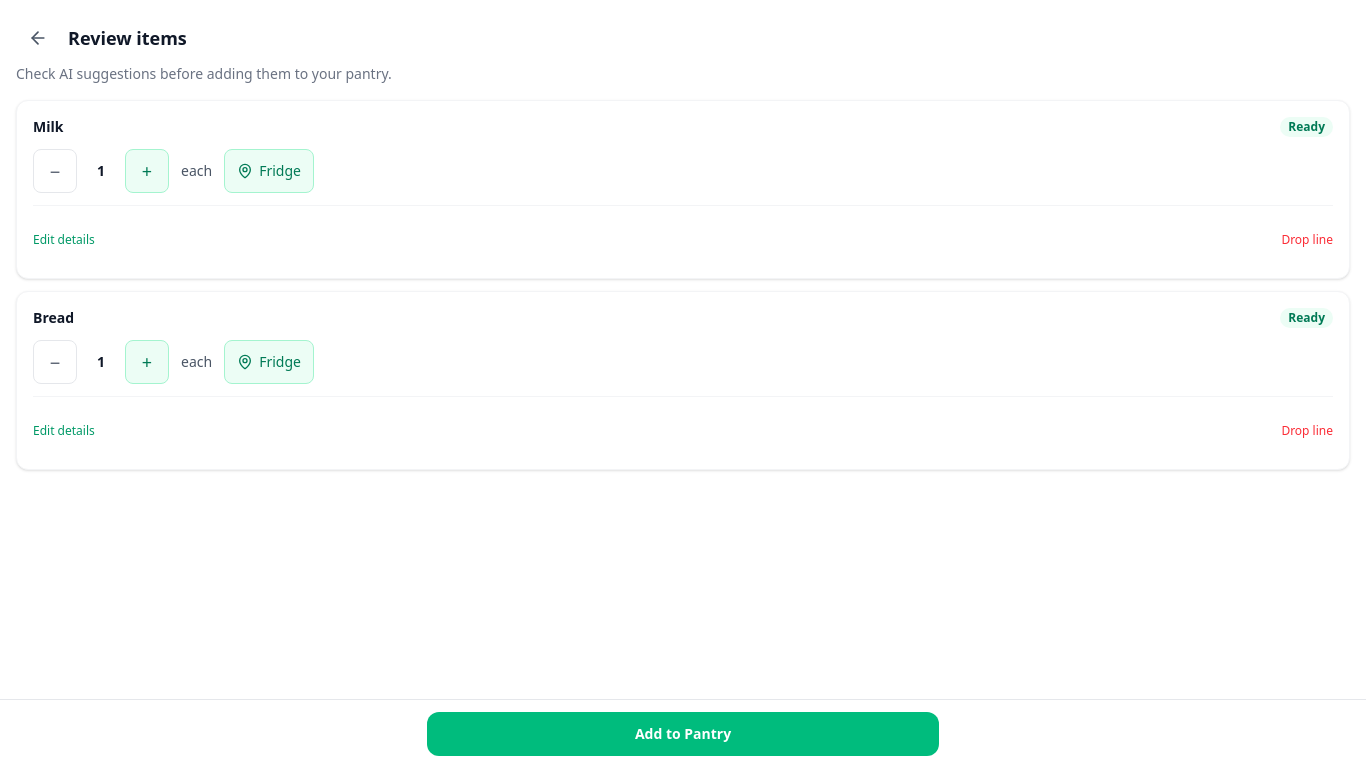
Test: BatchReviewScreen › confirm flow › keeps the result mounted and ConfirmBar hidden while retry is in flight
Click the button "Add to Pantry".
click(683, 734)  # box [427,712,939,756]
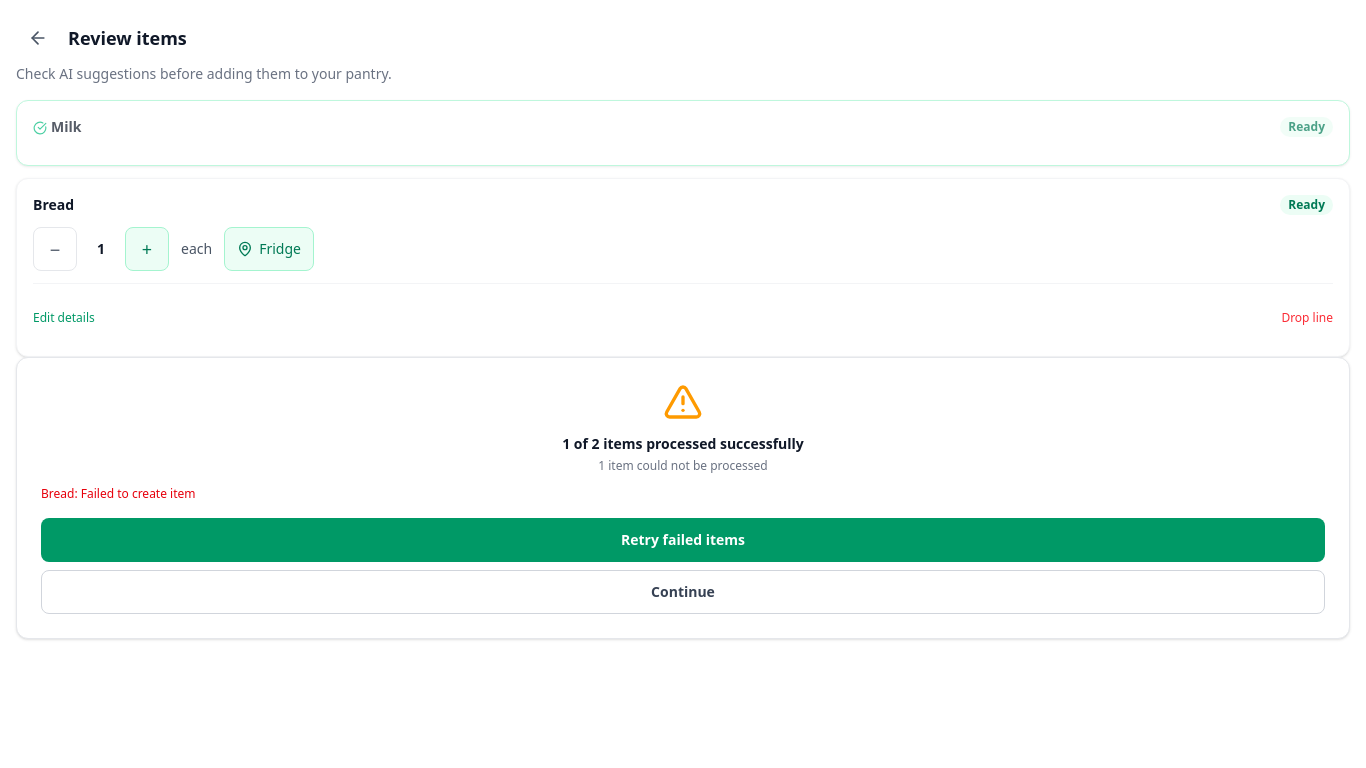
Click the button "Retry failed items".
click(683, 540)  # box [41,518,1325,562]
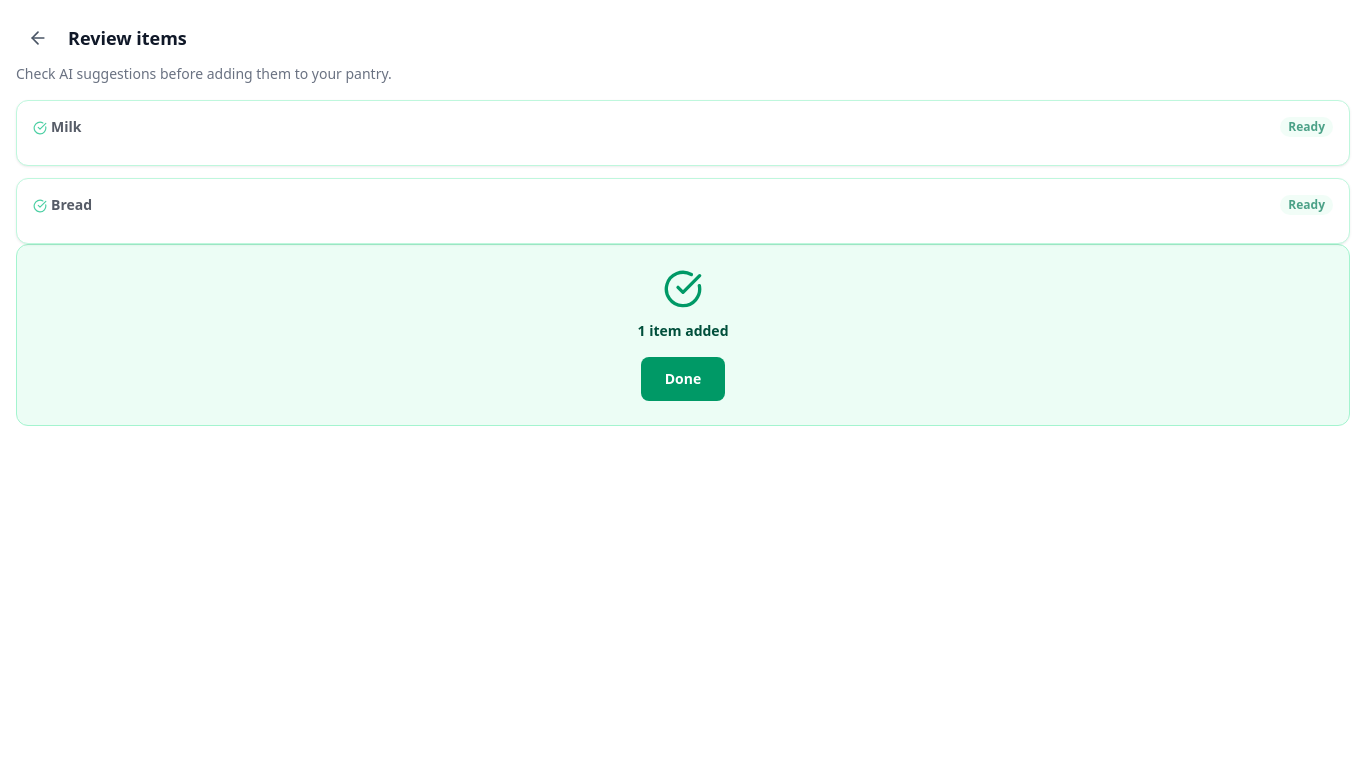
Expected: the button "Add to Pantry" is not shown
Now the text "1 item added" is shown, box [638,321,728,340]
